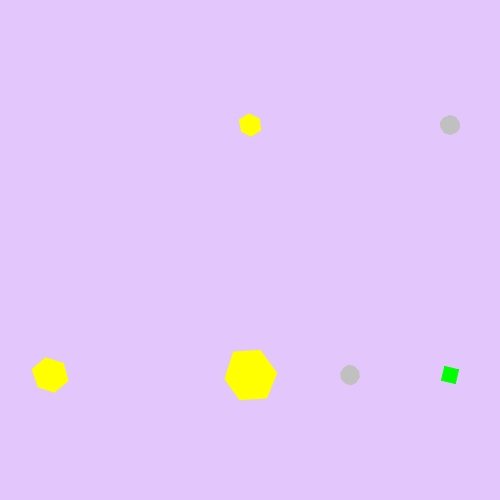decagon: (435, 111, 465, 139), (335, 361, 365, 389)
hexagon: (218, 349, 282, 402), (27, 356, 73, 395), (234, 111, 267, 139)
quadrilateral: (435, 360, 465, 390)
